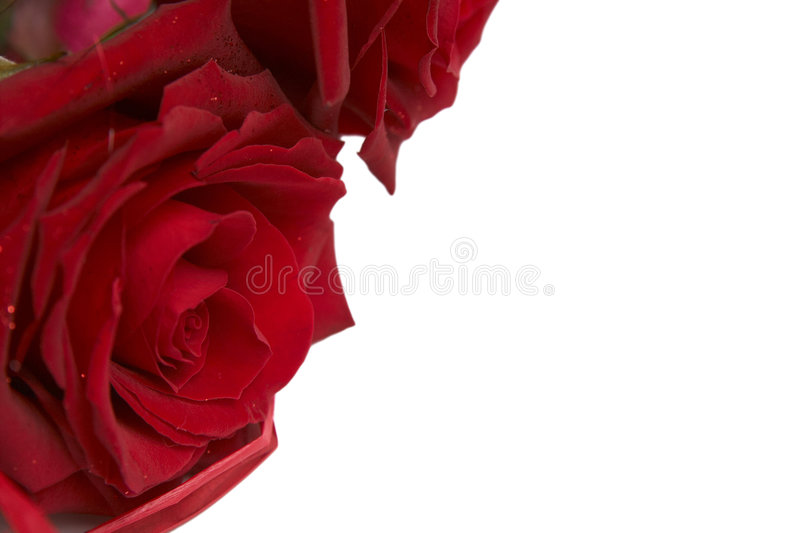RedRose: (4, 24, 365, 533)
